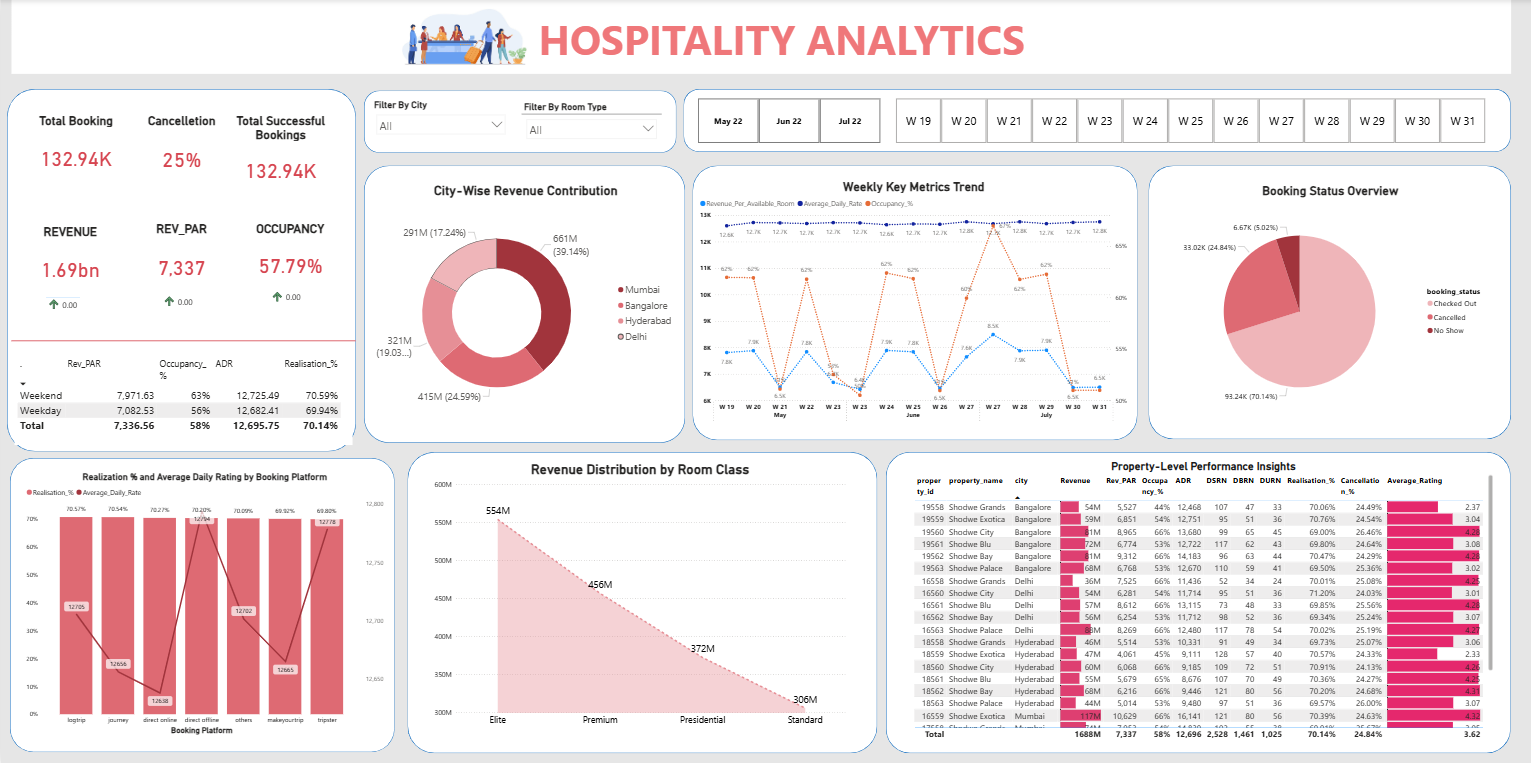

The dashboard page shown, as its layout file describes it:
{"tool":"powerbi","page":{"name":"Page 1","canvas":[3000,1500],"ordinal":0},"visuals":[{"type":"shape","box":[1336.7,176.7,1620,123.3],"z":0,"group":"g13"},{"type":"shape","box":[12.9,177.1,683.3,710],"z":0},{"type":"shape","box":[1733.3,886.7,1223.3,590],"z":0,"group":"g3"},{"type":"shape","box":[16.7,900,753.3,576],"z":0,"group":"g10"},{"type":"shape","box":[711.1,177.8,611.9,122.1],"z":1000,"group":"g12"},{"type":"shape","box":[1353.3,326.7,871.6,538],"z":1000,"group":"g6"},{"type":"group","id":"g1","title":"Group 5","box":[2246.7,326.7,710,535.9],"z":1000},{"type":"slicer","title":"Filter By City","fields":{"Values":["Dim_Hotels.city"]},"box":[725.1,196.8,272.2,78.7],"z":2000,"group":"g12"},{"type":"shape","box":[710,327.5,628.9,543.1],"z":2000,"group":"g8"},{"type":"tableEx","fields":{"Values":["Dim_Date.day_type","Key_Measures.Revenue_Per_Available_Room","Key_Measures.Occupancy_%","Key_Measures.Average_Daily_Rate","Key_Measures.Realisation_%"]},"box":[26.8,695.7,662.2,177.3],"z":2000},{"type":"slicer","title":"Filter By Room Type","fields":{"Values":["Dim_Rooms.room_class"]},"box":[1018.2,199.5,274.5,81.4],"z":3000,"group":"g12"},{"type":"group","id":"g2","title":"Group 7","box":[796.7,886.7,920,590],"z":3000},{"type":"slicer","fields":{"Values":["Dim_Date.mmm yy"]},"box":[1340.7,189.8,406.1,100],"z":4000,"group":"g13"},{"type":"tableEx","fields":{"Values":["Key_Measures.Revenue_Week_over_Week_change %"]},"box":[81.7,550.6,108.3,86.7],"z":4000,"group":"g4"},{"type":"group","id":"g3","title":"Group 8","box":[1733.3,886.7,1223.3,590],"z":4000},{"type":"slicer","fields":{"Values":["Dim_Date.week no"]},"box":[1728.6,189.8,1203,100],"z":5000,"group":"g13"},{"type":"group","id":"g4","title":"Group 1","box":[19.6,440.2,230.3,197],"z":5000},{"type":"group","id":"g5","title":"Group 2","box":[234.7,224.1,237.8,146.4],"z":6000},{"type":"tableEx","fields":{"Values":["Key_Measures.Occupancy_Week_over_Week_change_%"]},"box":[521.2,539.2,118.6,111.4],"z":6000,"group":"g9"},{"type":"group","id":"g6","title":"Group 9","box":[1353.3,326.7,870,540],"z":7000},{"type":"tableEx","title":"Property-Level Performance Insights","fields":{"Values":["Dim_Hotels.property_id","Dim_Hotels.property_name","Dim_Hotels.city","Key_Measures.Revenue","Key_Measures.Revenue_Per_Available_Room","Key_Measures.Occupancy_%","Key_Measures.Average_Daily_Rate","Key_Measures.Daily_Sellable_Room_Nights","Key_Measures.Daily_Booked_room_Nights","Key_Measures.Daily_Utilized_Room_Nights","Key_Measures.Realisation_%","Key_Measures.Cancellation_%"]},"box":[1781.8,900.4,1143.6,553.9],"z":7000,"group":"g3"},{"type":"card","title":"REVENUE","fields":{"Values":["Key_Measures.Revenue"]},"box":[19.6,440.2,230.3,142.8],"z":7500,"group":"g4"},{"type":"group","id":"g7","title":"Group 3","box":[234.3,435.7,237.1,206.1],"z":8000},{"type":"lineStackedColumnComboChart","title":"Realization % and Average Daily Rating by Booking Platform","fields":{"Category":["fact_bookings.booking_platform"],"Y2":["Key_Measures.Average_Daily_Rate"],"Y":["Key_Measures.Realisation_%"]},"box":[44.5,926.7,710,520],"z":8000,"group":"g10"},{"type":"group","id":"g8","title":"Group 10","box":[710,327.5,627.5,542.5],"z":9000},{"type":"tableEx","fields":{"Values":["Key_Measures.Revenue_per_available_room_Week_over_Week_change_%"]},"box":[306.7,547.5,131.4,94.3],"z":9000,"group":"g7"},{"type":"lineChart","title":"Weekly Key Metrics Trend","fields":{"Category":["Dim_Date.mmm yy.Variation.Date Hierarchy.Month","Dim_Date.week no"],"Y":["Key_Measures.Revenue_Per_Available_Room","Key_Measures.Average_Daily_Rate"],"Y2":["Key_Measures.Occupancy_%"]},"box":[1361.7,353.6,849.1,484.2],"z":10000,"group":"g6"},{"type":"group","id":"g9","title":"Group 4","box":[447.1,435.7,240,214.3],"z":10000},{"type":"group","id":"g10","title":"Group 11","box":[16.7,900,753.3,576],"z":11000},{"type":"group","id":"g11","title":"Group 6","box":[19.6,224.1,254.8,142.9],"z":12000},{"type":"group","id":"g12","title":"Group 13","box":[711.1,177.8,614.8,122.2],"z":13000},{"type":"card","title":"REV_PAR","fields":{"Values":["Key_Measures.Revenue_Per_Available_Room"]},"box":[234.3,435.7,237.1,145.7],"z":13000,"group":"g7"},{"type":"card","title":"Cancelletion","fields":{"Values":["Key_Measures.Cancellation_%"]},"box":[234.7,224.1,237.9,147.8],"z":14000,"group":"g5"},{"type":"card","title":"Total Successful Bookings ","fields":{"Values":["Key_Measures.Total_Sucessful_Bookings"]},"box":[430,224.1,237.9,161.9],"z":14000,"group":"g14"},{"type":"shape","box":[20.8,639.7,673.7,57.9],"z":14000},{"type":"group","id":"g13","title":"Group 14","box":[1336.7,176.7,1620,123.3],"z":15000},{"type":"card","title":"OCCUPANCY","fields":{"Values":["Key_Measures.Occupancy_%"]},"box":[447.1,435.7,240,138.6],"z":15000,"group":"g9"},{"type":"group","id":"g14","title":"Group 2","box":[430,224.1,237.8,160.3],"z":16000},{"type":"textbox","box":[20,0,2936.7,146.7],"z":17000},{"type":"card","title":"Total Booking","fields":{"Values":["Key_Measures.Total_Bookings"]},"box":[19.6,224.1,252.7,143.4],"z":17000,"group":"g11"},{"type":"image","box":[769,0,272.4,148.3],"z":18000},{"type":"donutChart","title":"City-Wise Revenue Contribution","fields":{"Category":["Dim_Hotels.city"],"Y":["Key_Measures.Revenue"]},"box":[726.3,362.8,598.2,477.7],"z":19000,"group":"g8"},{"type":"shape","box":[796.7,886.7,920,590],"z":23000,"group":"g2"},{"type":"areaChart","title":"Revenue Distribution by Room Class","fields":{"Category":["Dim_Rooms.room_class"],"Y":["Key_Measures.Revenue"]},"box":[844.5,904.5,816.7,530],"z":24000,"group":"g2"},{"type":"shape","box":[2246.7,326.7,710,535.9],"z":25000,"group":"g1"},{"type":"pieChart","title":"Booking Status Overview","fields":{"Category":["fact_bookings.booking_status"],"Y":["CountNonNull(fact_bookings.booking_status)"]},"box":[2287.8,361.1,630,473.3],"z":26000,"group":"g1"}]}

Visuals, with their boxes in screenshot pixels (x1, y1, x2, y2), scaled from the page's 3000x1500 canvas onto the 1531x763 screenshot:
shape: [682, 90, 1509, 153]
shape: [7, 90, 355, 451]
shape: [885, 451, 1509, 751]
shape: [9, 458, 393, 751]
shape: [363, 90, 675, 153]
shape: [691, 166, 1135, 440]
"Group 5" group: [1147, 166, 1509, 439]
"Filter By City" slicer: [370, 100, 509, 140]
shape: [362, 167, 683, 443]
tableEx - Dim_Date.day_type x Key_Measures.Revenue_Per_Available_Room: [14, 354, 352, 444]
"Filter By Room Type" slicer: [520, 101, 660, 143]
"Group 7" group: [407, 451, 876, 751]
slicer - Dim_Date.mmm yy: [684, 97, 891, 147]
tableEx - Key_Measures.Revenue_Week_over_Week_change %: [42, 280, 97, 324]
"Group 8" group: [885, 451, 1509, 751]
slicer - Dim_Date.week no: [882, 97, 1496, 147]
"Group 1" group: [10, 224, 128, 324]
"Group 2" group: [120, 114, 241, 188]
tableEx - Key_Measures.Occupancy_Week_over_Week_change_%: [266, 274, 327, 331]
"Group 9" group: [691, 166, 1135, 441]
"Property-Level Performance Insights" tableEx: [909, 458, 1493, 740]
"REVENUE" card: [10, 224, 128, 297]
"Group 3" group: [120, 222, 241, 326]
"Realization % and Average Daily Rating by Booking Platform" lineStackedColumnComboChart: [23, 471, 385, 736]
"Group 10" group: [362, 167, 683, 443]
tableEx - Key_Measures.Revenue_per_available_room_Week_over_Week_change_%: [157, 278, 224, 326]
"Weekly Key Metrics Trend" lineChart: [695, 180, 1128, 426]
"Group 4" group: [228, 222, 351, 331]
"Group 11" group: [9, 458, 393, 751]
"Group 6" group: [10, 114, 140, 187]
"Group 13" group: [363, 90, 677, 153]
"REV_PAR" card: [120, 222, 241, 296]
"Cancelletion" card: [120, 114, 241, 189]
"Total Successful Bookings " card: [219, 114, 341, 196]
shape: [11, 325, 354, 355]
"Group 14" group: [682, 90, 1509, 153]
"OCCUPANCY" card: [228, 222, 351, 292]
"Group 2" group: [219, 114, 341, 196]
textbox: [10, 0, 1509, 75]
"Total Booking" card: [10, 114, 139, 187]
image: [392, 0, 531, 75]
"City-Wise Revenue Contribution" donutChart: [371, 185, 676, 428]
shape: [407, 451, 876, 751]
"Revenue Distribution by Room Class" areaChart: [431, 460, 848, 730]
shape: [1147, 166, 1509, 439]
"Booking Status Overview" pieChart: [1168, 184, 1489, 424]
